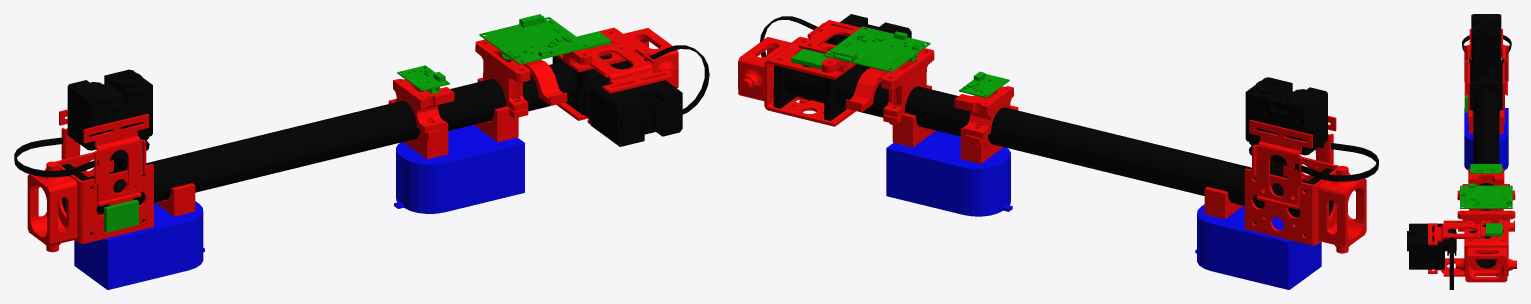
File: ducted_fan_baselink.dae
3 views of the same model, side by side, from view 1: azimuth 30°, elevation 25°; view 2: azimuth 150°, elevation 25°; view 3: azimuth 270°, elevation 25° (orthographic). The views are drawn at different scales.
Visible parts, largest first — view 1: Red, Black_Nonmetal, Blue, Black_Metal, Green; view 2: Red, Black_Nonmetal, Blue, Black_Metal, Green; view 3: Red, Black_Metal, Black_Nonmetal, Green, Blue.
Boxes of the visible parts, x1,y1,x2,y2 form: Red: [27, 27, 678, 252]; Black_Nonmetal: [14, 45, 709, 214]; Blue: [74, 125, 524, 289]; Black_Metal: [62, 56, 682, 234]; Green: [104, 14, 611, 232]; Red: [738, 20, 1366, 253]; Black_Nonmetal: [760, 16, 1378, 217]; Blue: [886, 130, 1321, 289]; Black_Metal: [773, 14, 1333, 236]; Green: [791, 26, 1009, 97]; Red: [1428, 29, 1516, 282]; Black_Metal: [1407, 14, 1503, 269]; Black_Nonmetal: [1449, 35, 1511, 289]; Green: [1460, 94, 1512, 236]; Blue: [1464, 108, 1508, 170].
Size of the model in its own units: 0.471 by 0.1042 by 0.1327.
